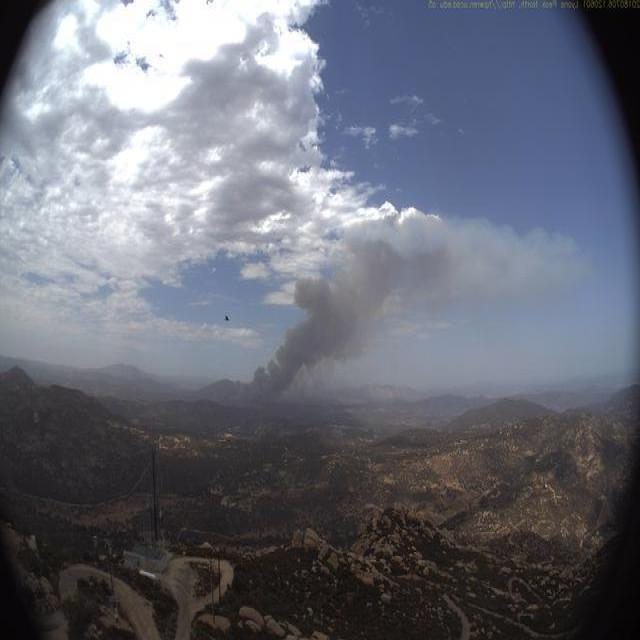Smoke: (224, 217, 517, 433)
